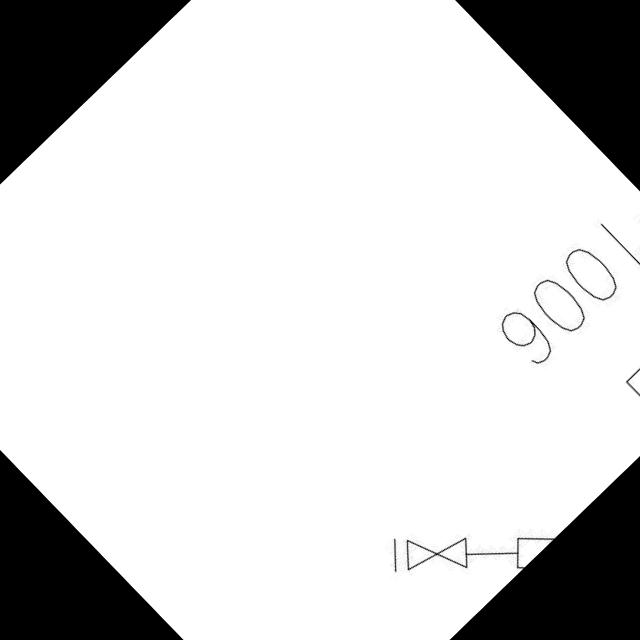GV: (394, 508, 482, 596)
